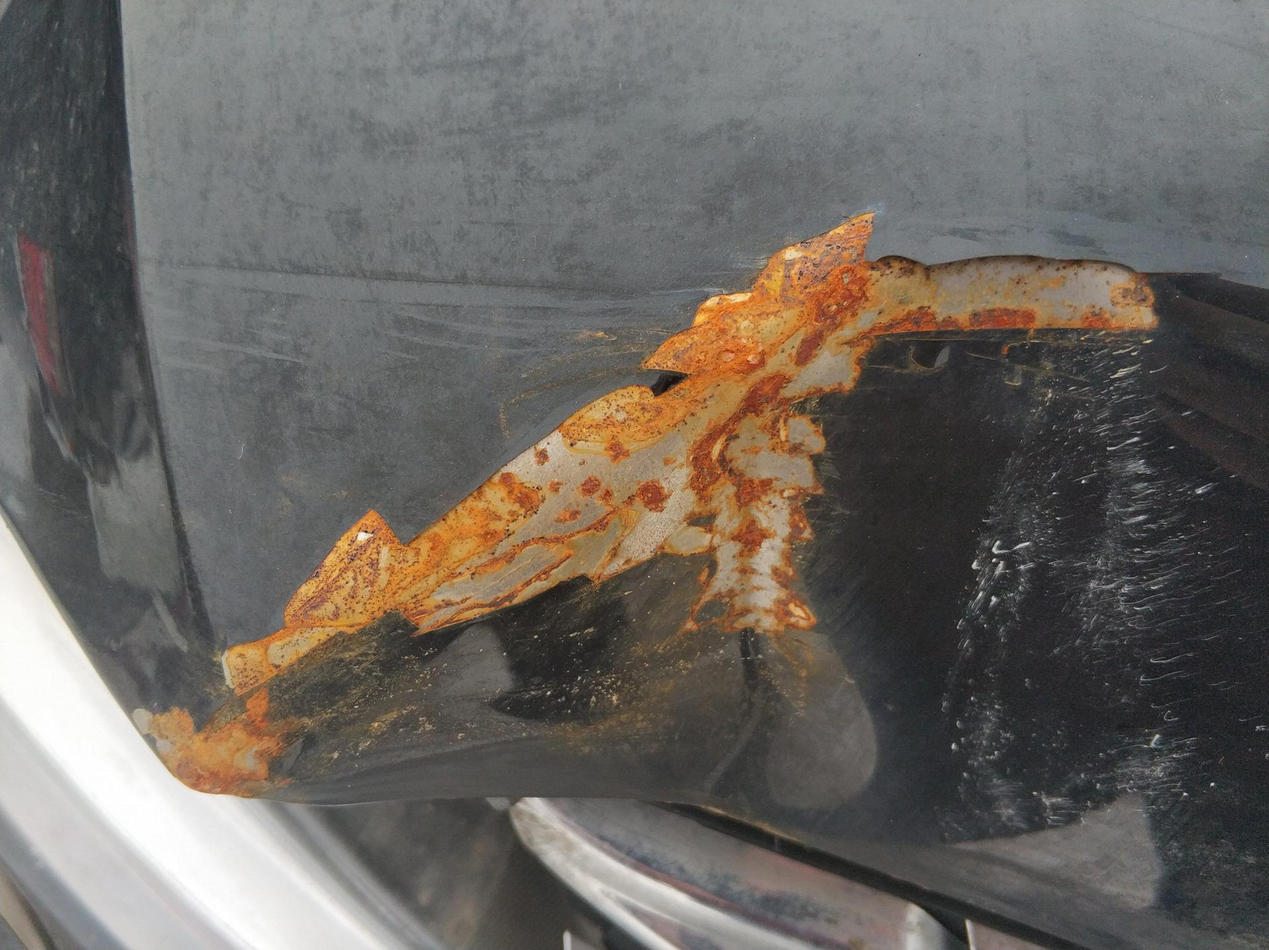corrosion: (106, 214, 1180, 821)
